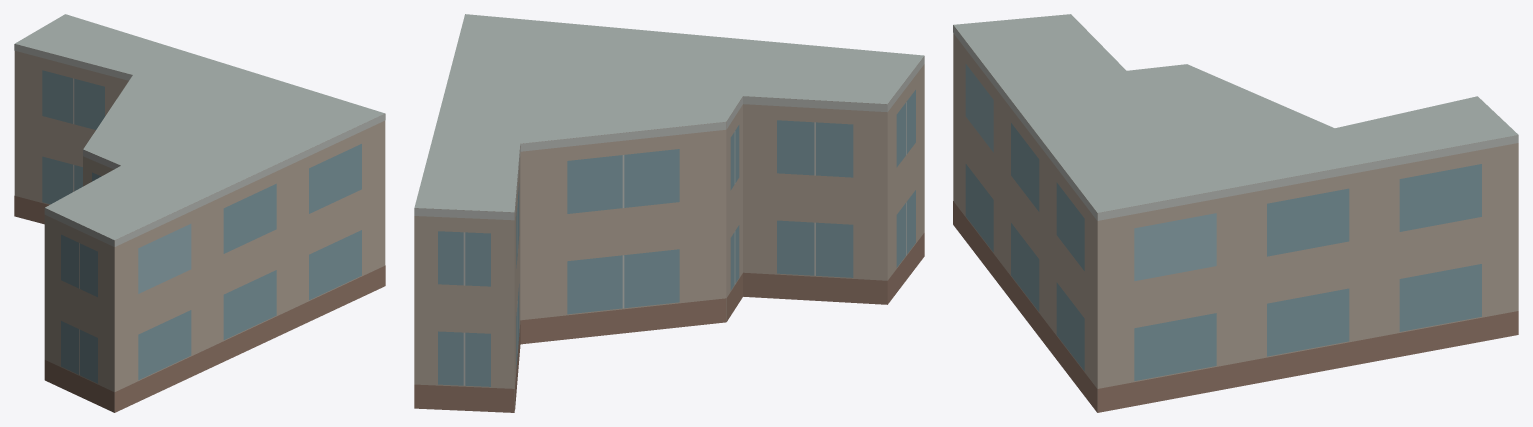
Rendered from survey-upis-32674019.glb.
The picture shows the model from 3 angles, left to right: view 1: azimuth 30°, elevation 25°; view 2: azimuth 150°, elevation 25°; view 3: azimuth 270°, elevation 25°; orthographic projection. The views are drawn at different scales.
Parts seen in each view (by area): view 1: survey-upis-32674019.tmp; view 2: survey-upis-32674019.tmp; view 3: survey-upis-32674019.tmp.
Boxes of the visible parts, bbox=[...] form: survey-upis-32674019.tmp: bbox=[14, 14, 385, 412]; survey-upis-32674019.tmp: bbox=[414, 14, 924, 412]; survey-upis-32674019.tmp: bbox=[953, 14, 1518, 412].
Size of the model in its own units: 13.03 by 6.1 by 15.65.
